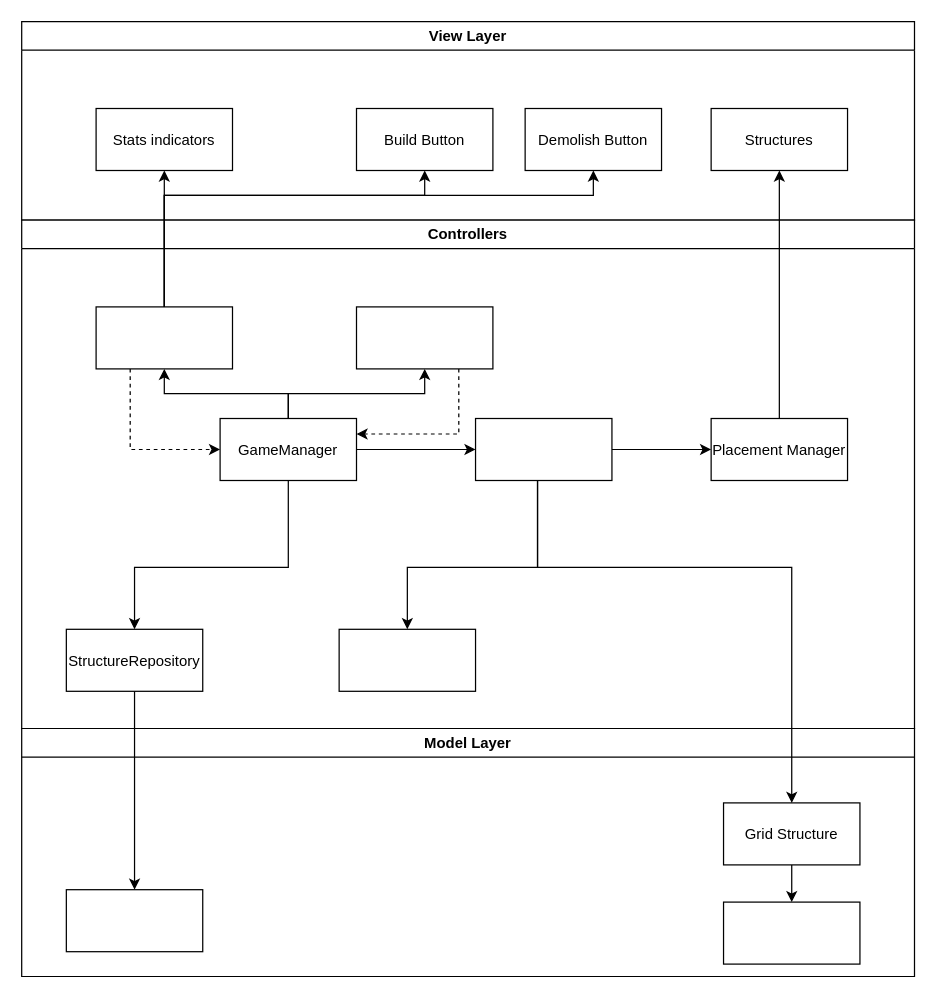
Image size: 936x998. Some labels were removed from this diagram. The centre of each missing label's shape, as x and y in pixels:
"Building Manager" goes at [543,448].
"Cells" goes at [791,932].
"InputController" goes at [424,337].
"MusicSystem" goes at [407,659].
"ScriptableObjects" goes at [134,920].
"UiController" goes at [163,337].
